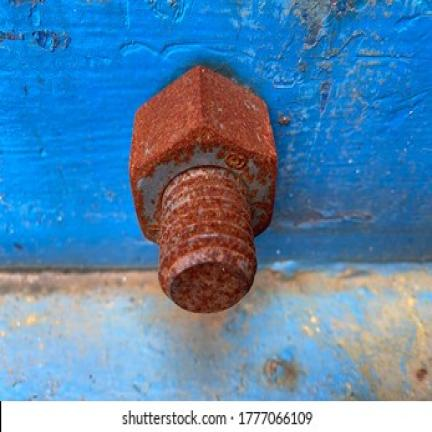karat: (130, 65, 277, 313)
